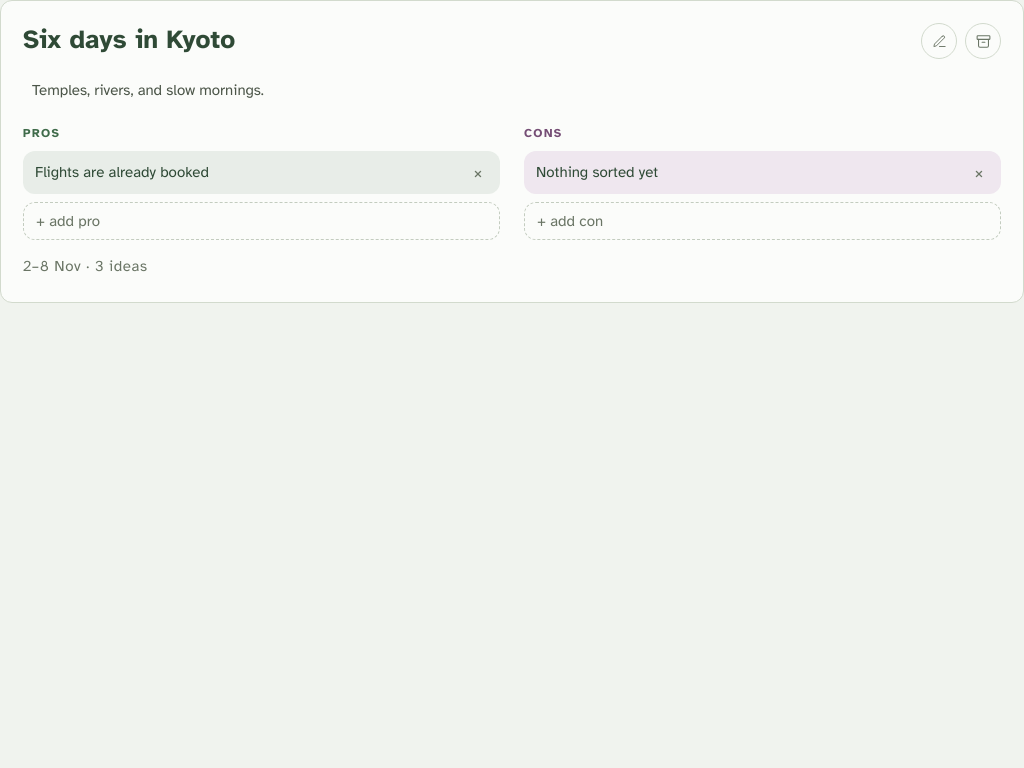
Test: TripCard › does not save a blank title, reverting to the original instead
Click the button named "Edit Six days in Kyoto" at (939, 41), box [921, 23, 957, 59]
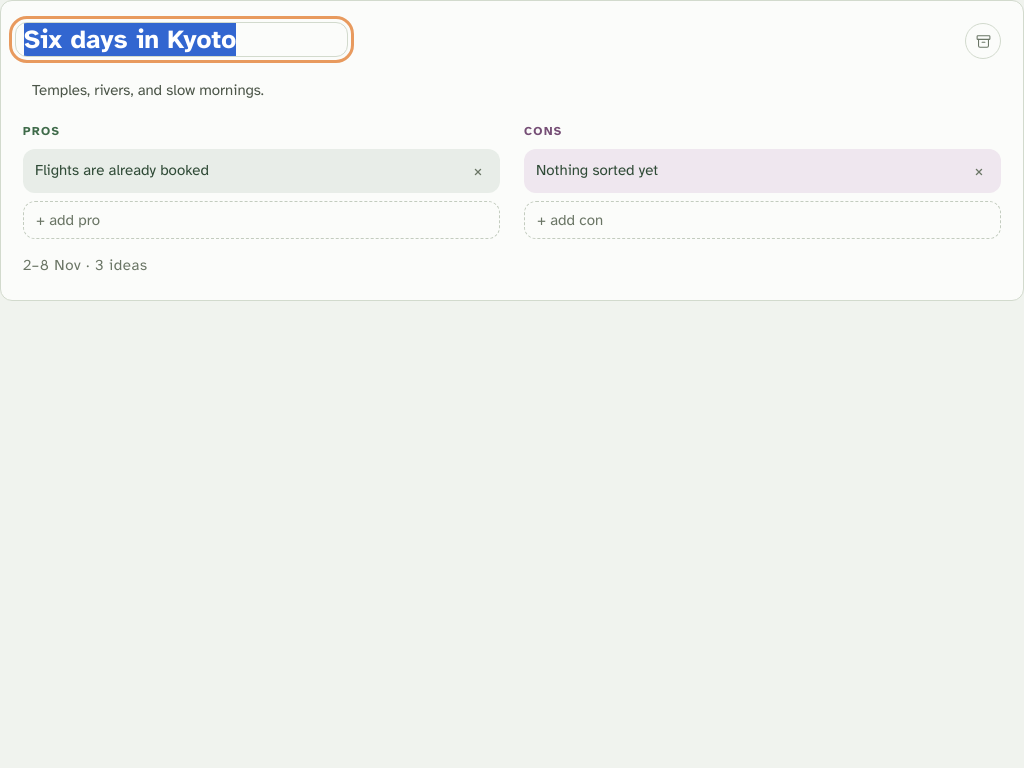
Clear the field named "Trip name for Six days in Kyoto" at (182, 39), box [15, 22, 348, 57]
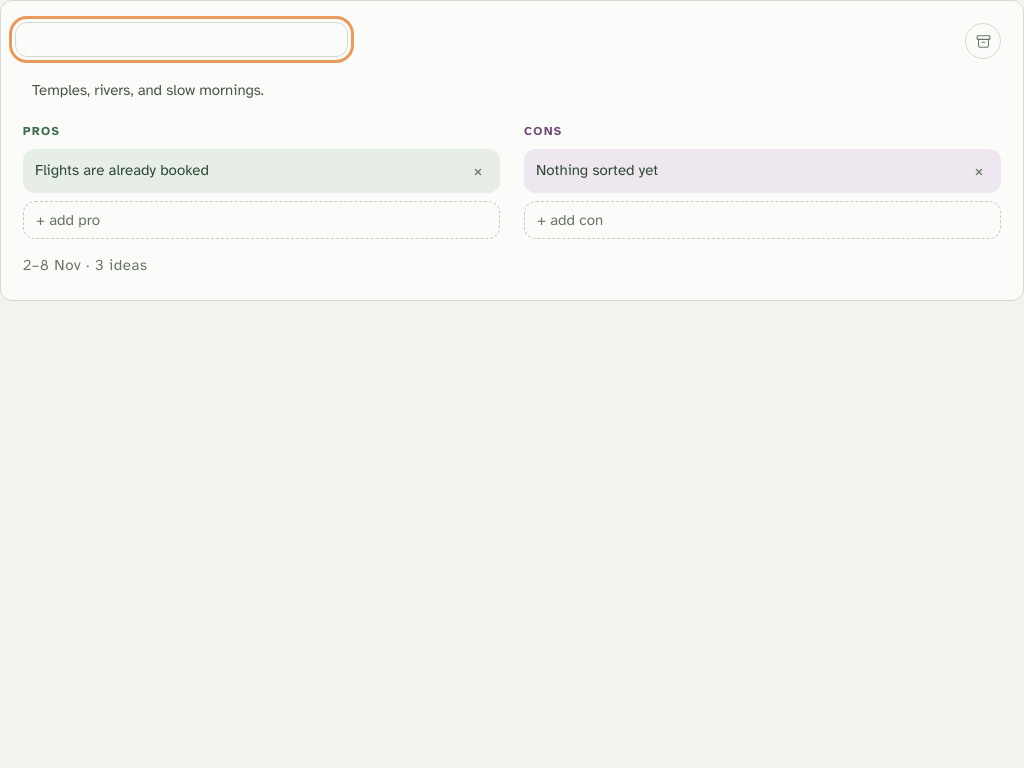
Click the element that starts with "Temples, rivers, and slow mornings." at (512, 384), box [0, 0, 1023, 767]
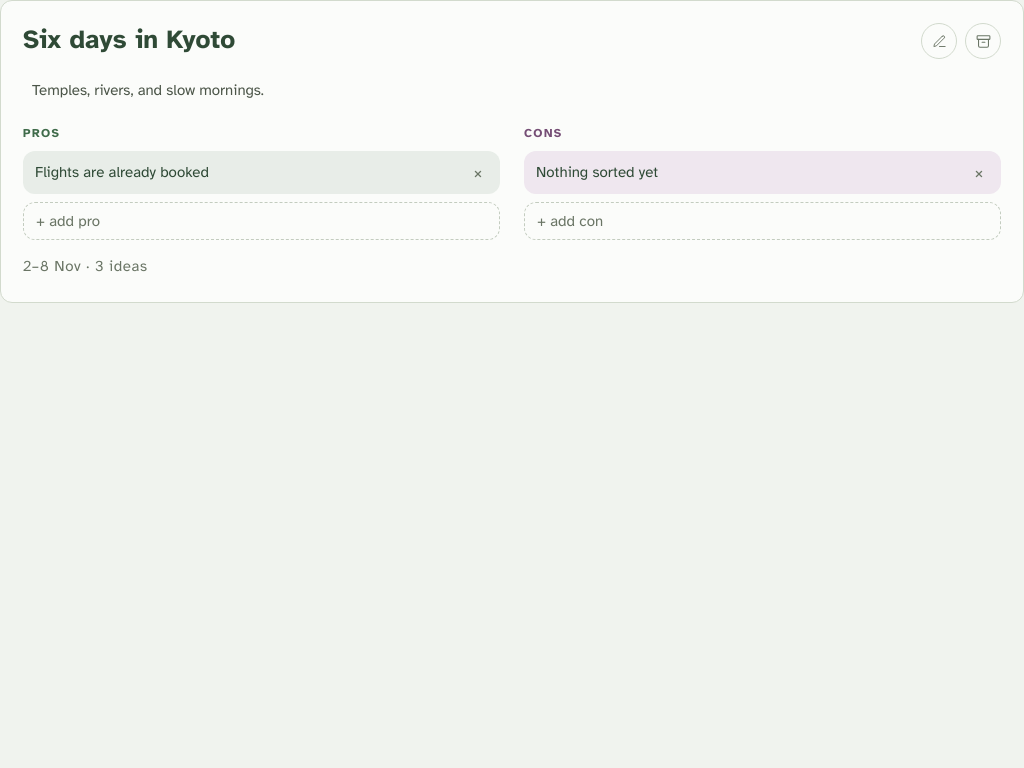
Result: the link "Six days in Kyoto" is shown at [23, 23, 235, 56]
